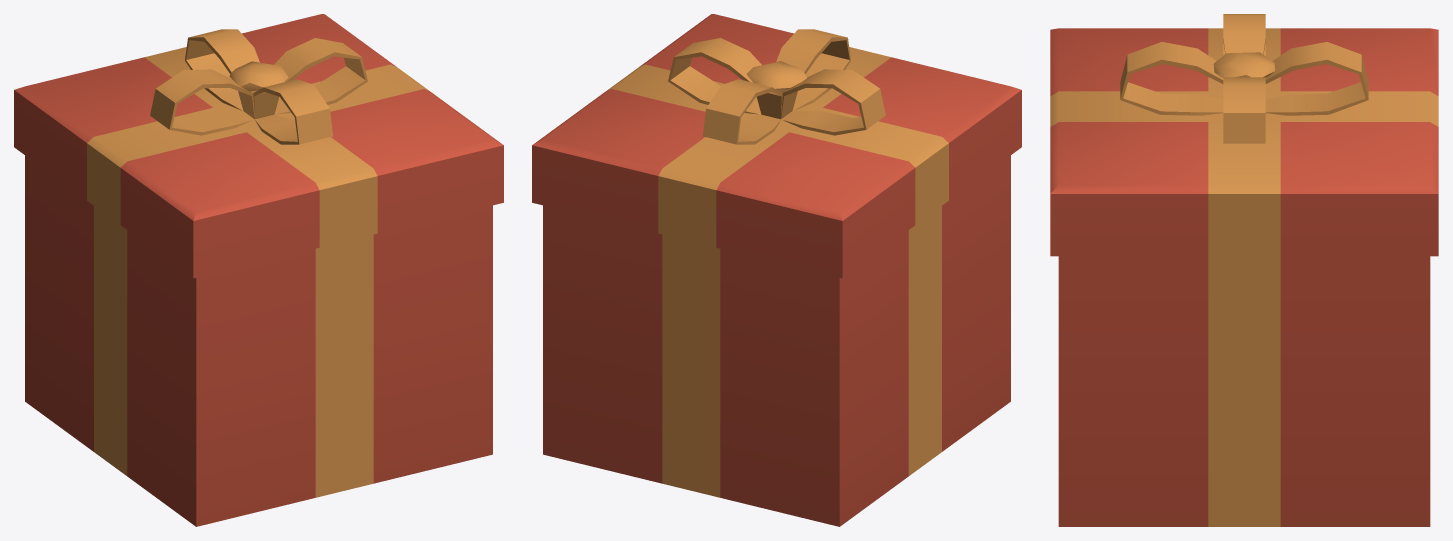
The model's file is GiftBox_03.glb.
3 renders of one model, left to right at view 1: azimuth 30°, elevation 25°; view 2: azimuth 150°, elevation 25°; view 3: azimuth 270°, elevation 25°, orthographic. The views are drawn at different scales.
Parts seen in each view (by area): view 1: GiftBox_03; view 2: GiftBox_03; view 3: GiftBox_03.
Boxes of the visible parts, x1,y1,x2,y2 form: GiftBox_03: (14,14,503,526); GiftBox_03: (532,14,1021,526); GiftBox_03: (1050,14,1438,526).
Bounding box in the file's own units: 0.4996 × 0.5642 × 0.4996.
Materials: 1 (1 with a texture image).
